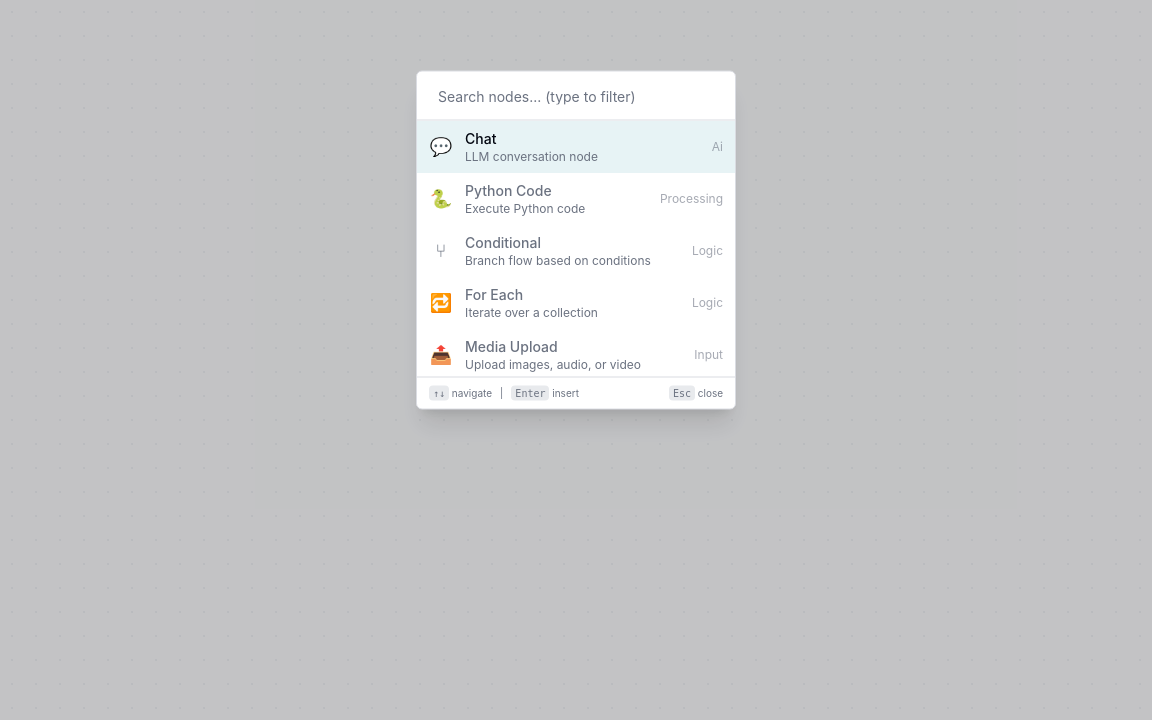
Test case: QuickAddMenu › filters options based on search query
The image size is (1152, 720).
Type "Chat" into the field with placeholder "Search nodes... (type to filter)" at (576, 96), box [425,80,727,112]
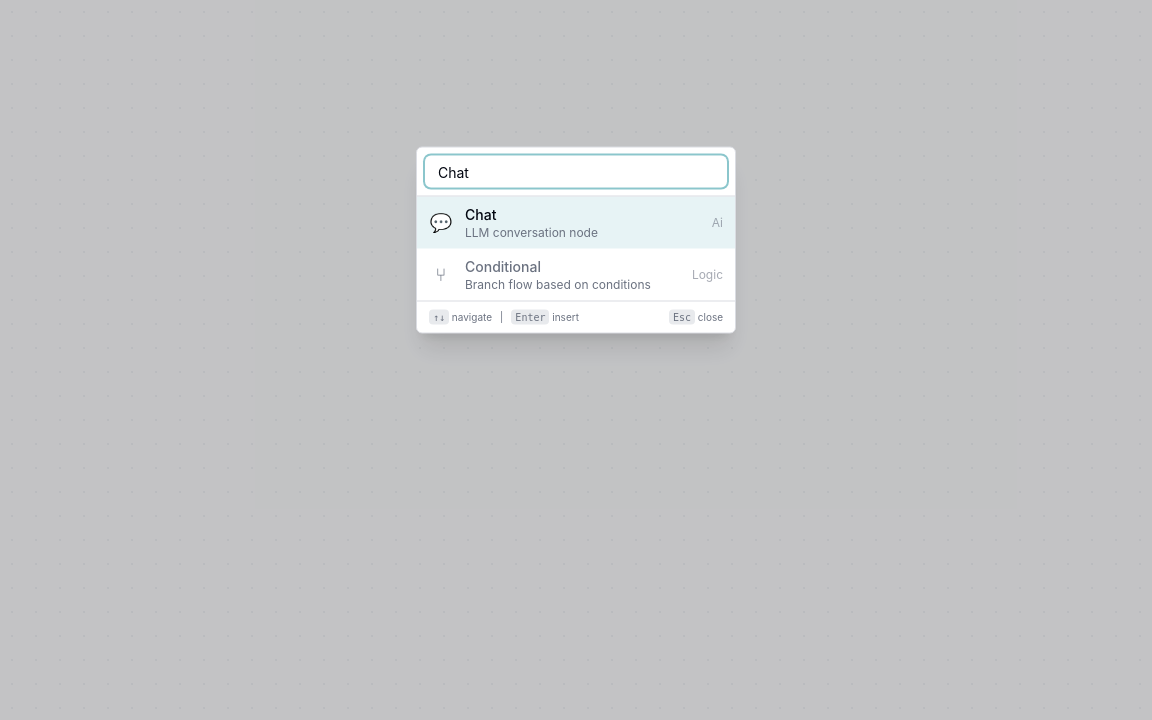
Expected: the text "Chat" is shown, [465,206,496,222]
Now the button "Python Code" is gone
